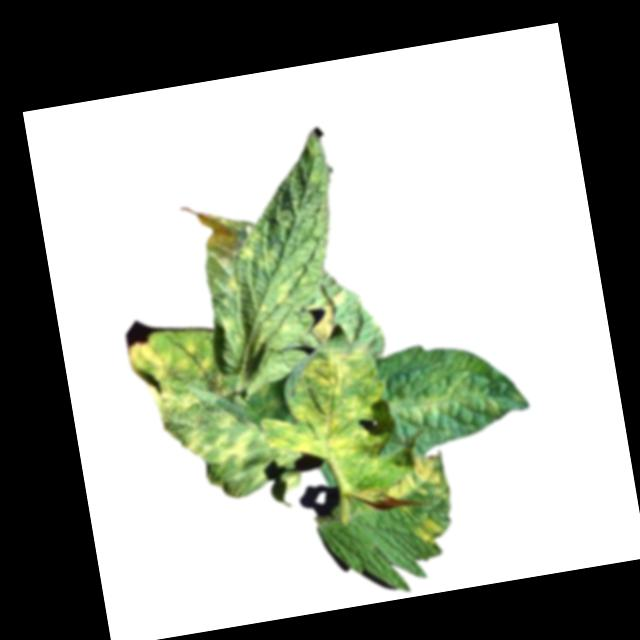Leaf_Mold: (252, 343, 397, 477), (127, 328, 222, 416), (384, 363, 502, 432), (178, 408, 268, 486), (371, 451, 453, 509), (244, 271, 306, 347), (186, 206, 238, 275), (302, 287, 351, 343), (235, 226, 279, 274), (411, 515, 445, 547), (225, 277, 239, 292)
